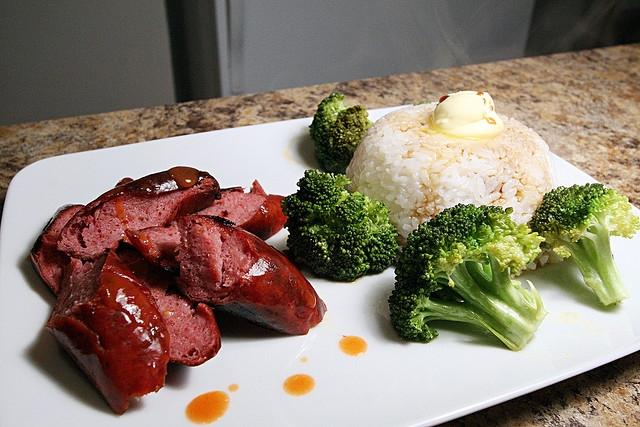broccoli: (388, 205, 549, 350), (528, 182, 640, 306), (280, 169, 401, 282), (309, 93, 373, 174)
